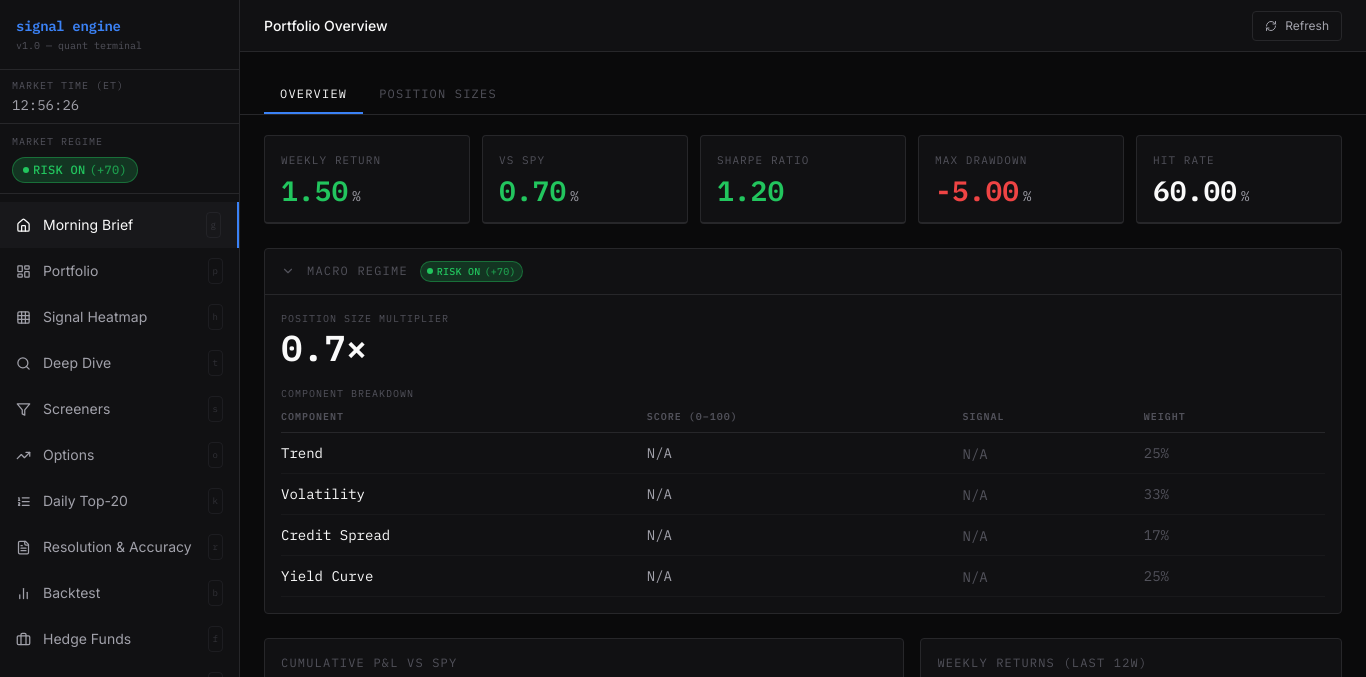
Test: PortfolioPage — Position Sizes section › a) Status badge shows OVERWEIGHT when current > recommended × 1.20
The width and height of the screenshot is (1366, 677).
Click the tab "Position Sizes" at (438, 95), box 363,76 -> 513,114
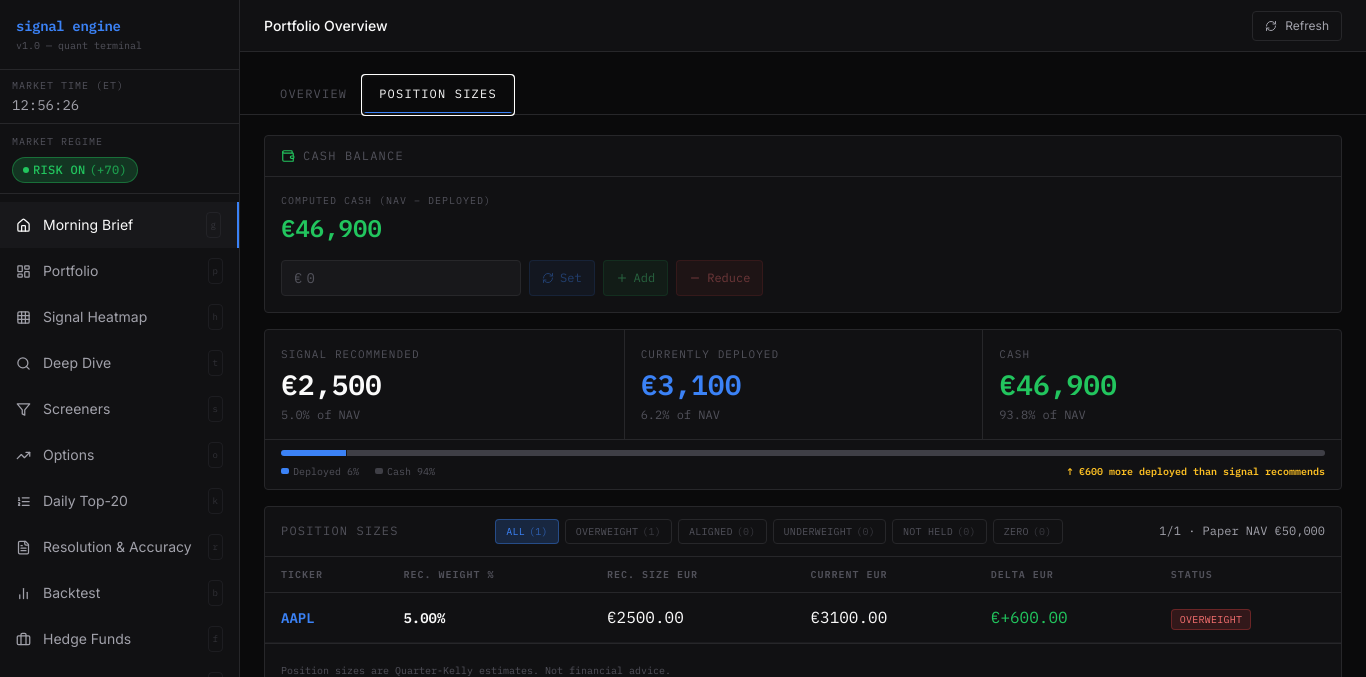
expect the text "OVERWEIGHT" is shown: met, box 1171,608 -> 1251,630
